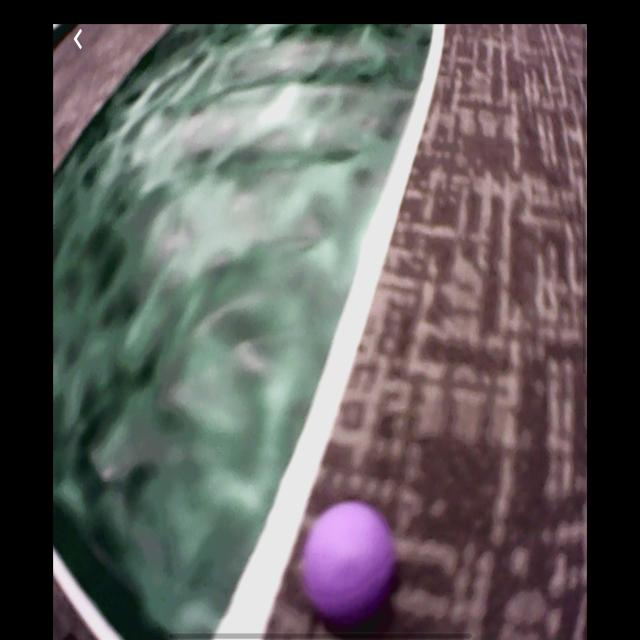ball: (308, 501, 391, 615)
